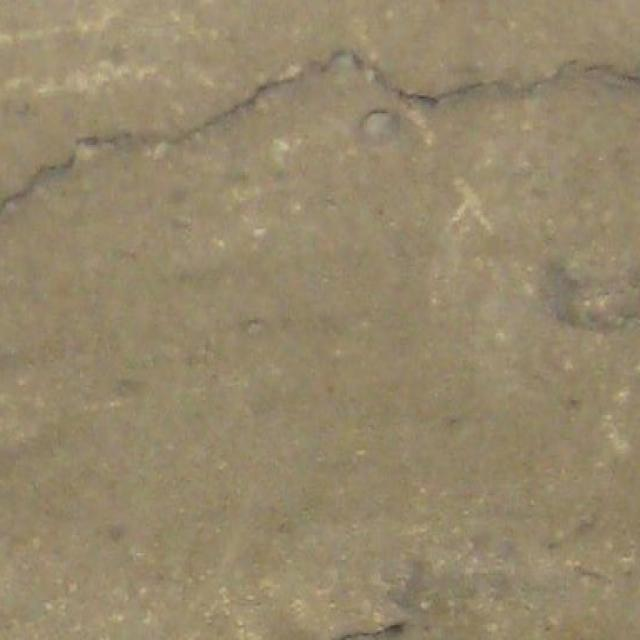Transverse: (0, 19, 640, 233)
